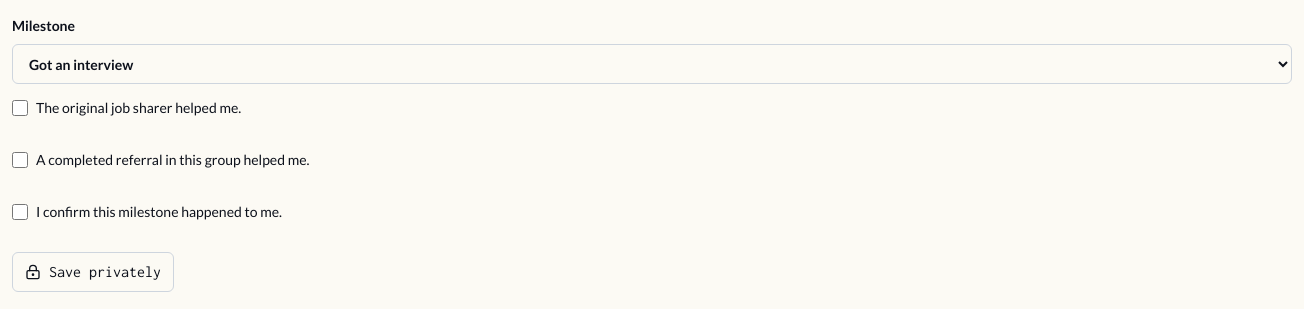
Test: outcome UI › keeps confirmation and optional attribution unchecked and saves privately
Expected: the checkbox labelled "The original job sharer helped me." is not checked, [12, 100, 28, 116]
Expected: the checkbox labelled "A completed referral in this group helped me." is not checked, [12, 152, 28, 168]
Click the checkbox labelled "I confirm this milestone happened to me.".
click(20, 212)  # box [12, 204, 28, 220]
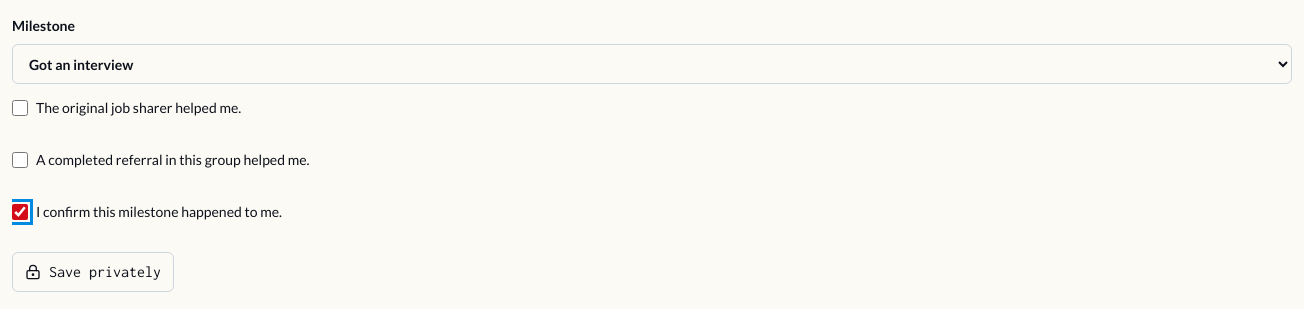
Click the button "Save privately".
click(93, 272)  # box [12, 252, 174, 292]
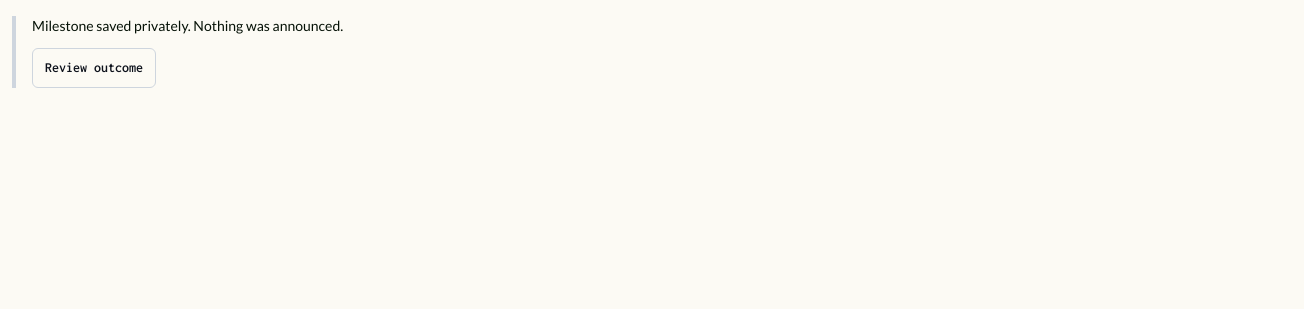
Now the message shows "saved privately", box [32, 17, 343, 34]
